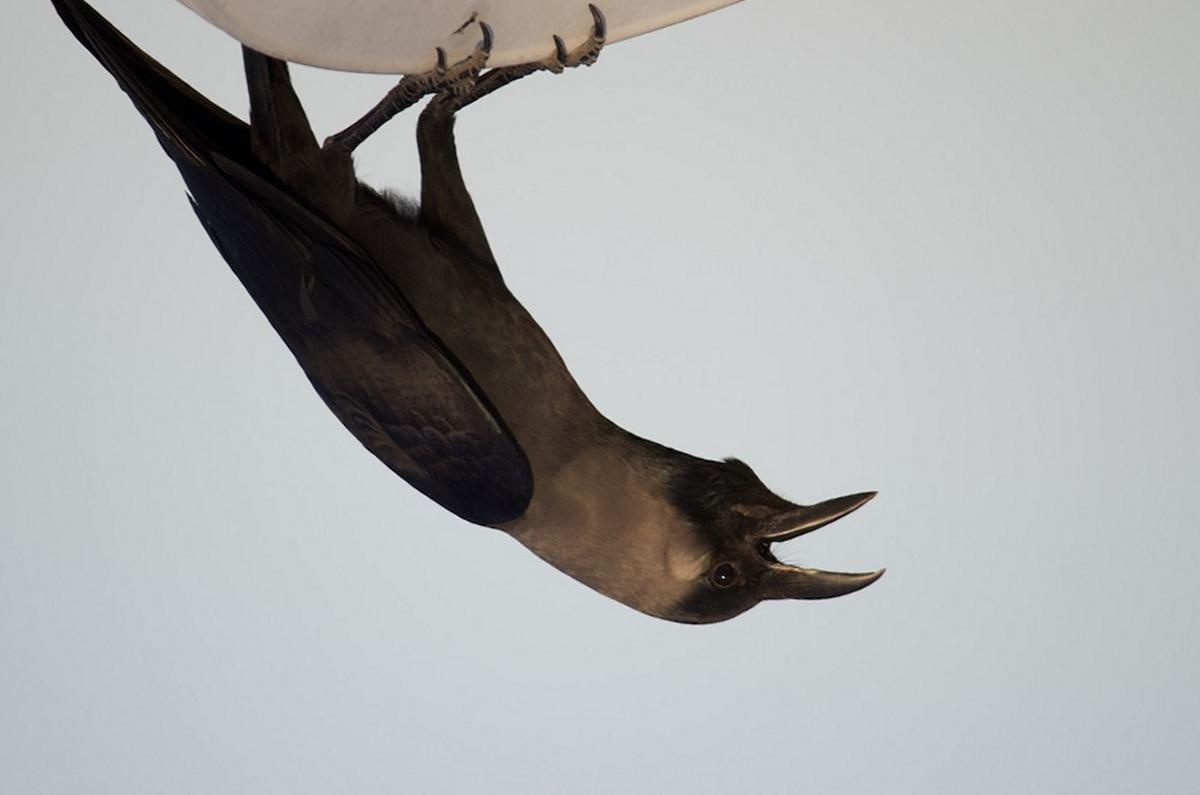crow: (79, 3, 895, 648)
